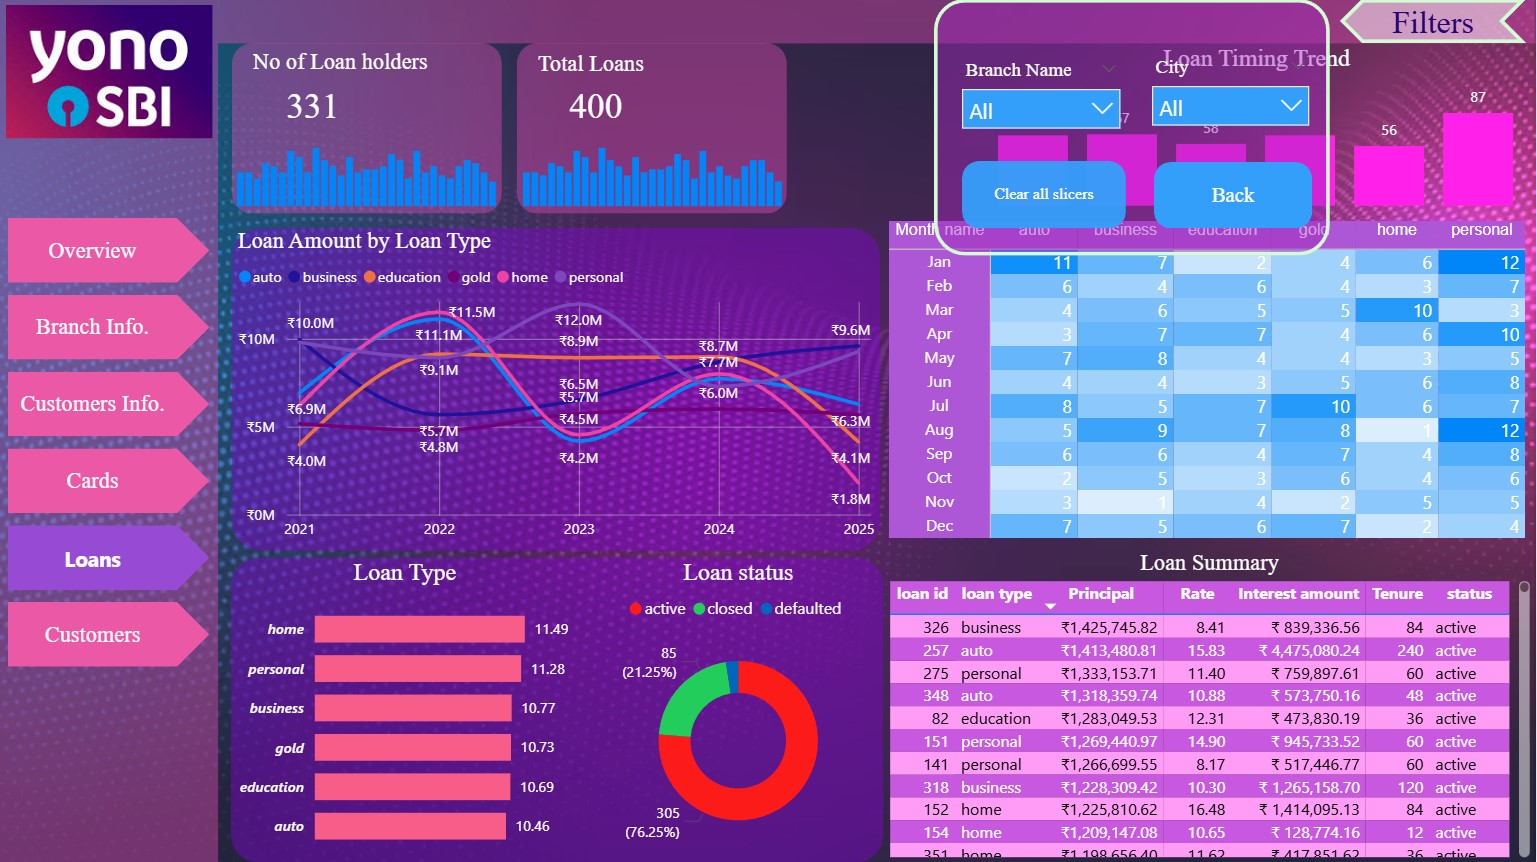

Layout of this report page (visuals, bound fields, positions):
{"tool":"powerbi","page":{"name":"Loans","canvas":[1280,720],"ordinal":4},"visuals":[{"type":"shape","box":[193.2,36.9,224.8,142.2],"z":0},{"type":"shape","box":[0,0,181.8,720],"z":1000},{"type":"textbox","box":[205.5,36.9,171.2,36.9],"z":2000},{"type":"card","fields":{"Values":["public loans.No of loan holders"]},"box":[205.5,67.6,109.8,41.3],"z":3000},{"type":"columnChart","fields":{"Y":["public loans.No of loan holders"],"Category":["public loans.Month days"]},"box":[192.3,107.1,225.7,71.1],"z":4000},{"type":"shape","box":[431.1,36.9,224.8,142.2],"z":5000},{"type":"textbox","box":[443.4,38.6,148.4,36.9],"z":6000},{"type":"shape","box":[193.4,190.6,540.1,268.7],"z":7000},{"type":"shape","box":[192.3,466.2,543.5,253.8],"z":8000},{"type":"card","fields":{"Values":["public loans.No of loans"]},"box":[441.7,67.6,109.8,41.3],"z":9000},{"type":"columnChart","fields":{"Category":["public loans.Month days"],"Y":["public loans.No of loans"]},"box":[431.1,107.1,225.7,71.1],"z":10000},{"type":"clusteredBarChart","title":"Loan Type","fields":{"Category":["public loans.loan_type"],"Y":["public loans.Avg interest rate"]},"box":[193.2,466.2,288,253.8],"z":11000},{"type":"donutChart","title":"Loan status","fields":{"Category":["public loans.status"],"Y":["public loans.No of loans"]},"box":[497,466.2,237.1,253.8],"z":12000},{"type":"lineChart","title":"Loan Amount by Loan Type","fields":{"Category":["public loans.Year"],"Y":["Sum(public loans.principal)"],"Series":["public loans.loan_type"]},"box":[193.4,190.6,540.1,268.7],"z":13000},{"type":"tableEx","title":"Loan Summary","fields":{"Values":["public loans.loan_id","public loans.loan_type","Sum(public loans.principal)","Sum(public loans.interest_rate)","Sum(public loans.Interest amount)","Sum(public loans.term_months)","public loans.status"]},"box":[735.8,459.2,544.4,260.8],"z":14000},{"type":"pivotTable","fields":{"Columns":["public loans.loan_type"],"Values":["public loans.No of loans"],"Rows":["public loans.Month name"]},"box":[736.2,179.7,543.8,276.9],"z":15000},{"type":"clusteredColumnChart","title":"Loan Timing Trend","fields":{"Category":["public loans.loan_type"],"Y":["public loans.No of loans"]},"box":[827,37.2,441.2,140.7],"z":16000},{"type":"image","box":[0,0,181.6,120.7],"z":17000},{"type":"pageNavigator","box":[6.4,182.5,168.9,378.6],"z":18000},{"type":"shape","box":[181.6,0,1098.4,37.2],"z":19000},{"type":"actionButton","box":[1116.3,0,155.1,36.6],"z":20000}]}

Visuals, with their boxes in screenshot pixels (x1, y1, x2, y2), scaled from the page's 1280x720 canvas onto the 1537x862 screenshot:
shape: {"x1": 232, "y1": 44, "x2": 502, "y2": 214}
shape: {"x1": 0, "y1": 0, "x2": 218, "y2": 861}
textbox: {"x1": 247, "y1": 44, "x2": 452, "y2": 88}
card - public loans.No of loan holders: {"x1": 247, "y1": 81, "x2": 379, "y2": 130}
columnChart - public loans.No of loan holders x public loans.Month days: {"x1": 231, "y1": 128, "x2": 502, "y2": 213}
shape: {"x1": 518, "y1": 44, "x2": 788, "y2": 214}
textbox: {"x1": 532, "y1": 46, "x2": 711, "y2": 90}
shape: {"x1": 232, "y1": 228, "x2": 881, "y2": 550}
shape: {"x1": 231, "y1": 558, "x2": 884, "y2": 861}
card - public loans.No of loans: {"x1": 530, "y1": 81, "x2": 662, "y2": 130}
columnChart - public loans.Month days x public loans.No of loans: {"x1": 518, "y1": 128, "x2": 789, "y2": 213}
"Loan Type" clusteredBarChart: {"x1": 232, "y1": 558, "x2": 578, "y2": 861}
"Loan status" donutChart: {"x1": 597, "y1": 558, "x2": 881, "y2": 861}
"Loan Amount by Loan Type" lineChart: {"x1": 232, "y1": 228, "x2": 881, "y2": 550}
"Loan Summary" tableEx: {"x1": 884, "y1": 550, "x2": 1536, "y2": 861}
pivotTable - public loans.loan_type x public loans.No of loans: {"x1": 884, "y1": 215, "x2": 1536, "y2": 547}
"Loan Timing Trend" clusteredColumnChart: {"x1": 993, "y1": 45, "x2": 1523, "y2": 213}
image: {"x1": 0, "y1": 0, "x2": 218, "y2": 145}
pageNavigator: {"x1": 8, "y1": 218, "x2": 210, "y2": 672}
shape: {"x1": 218, "y1": 0, "x2": 1536, "y2": 45}
actionButton: {"x1": 1340, "y1": 0, "x2": 1527, "y2": 44}
